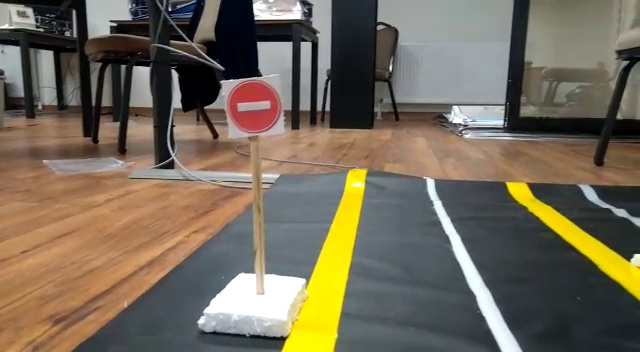girisi_olmayan_yol: (226, 74, 283, 133)
